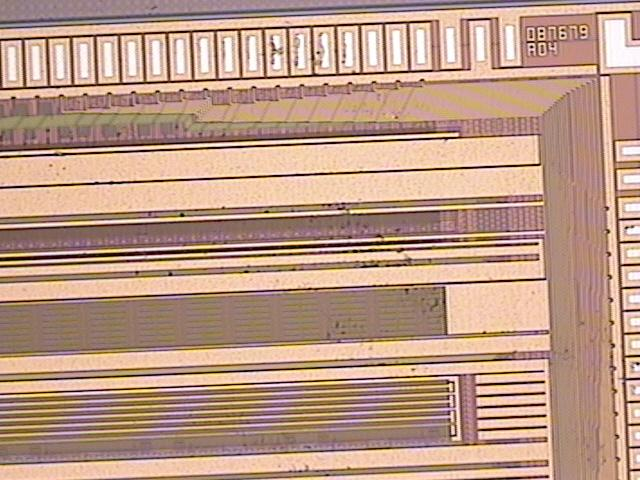PO CONTAMINATION: (38, 155, 455, 480)
